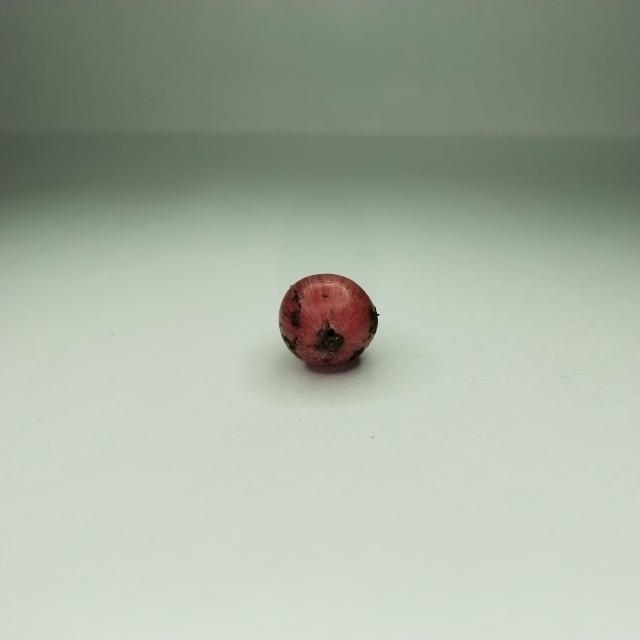Infectado: (278, 275, 378, 368)
